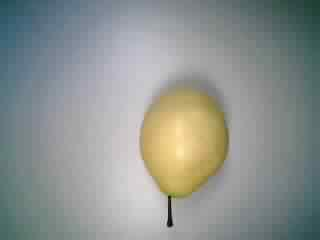pear: (122, 79, 239, 231)
